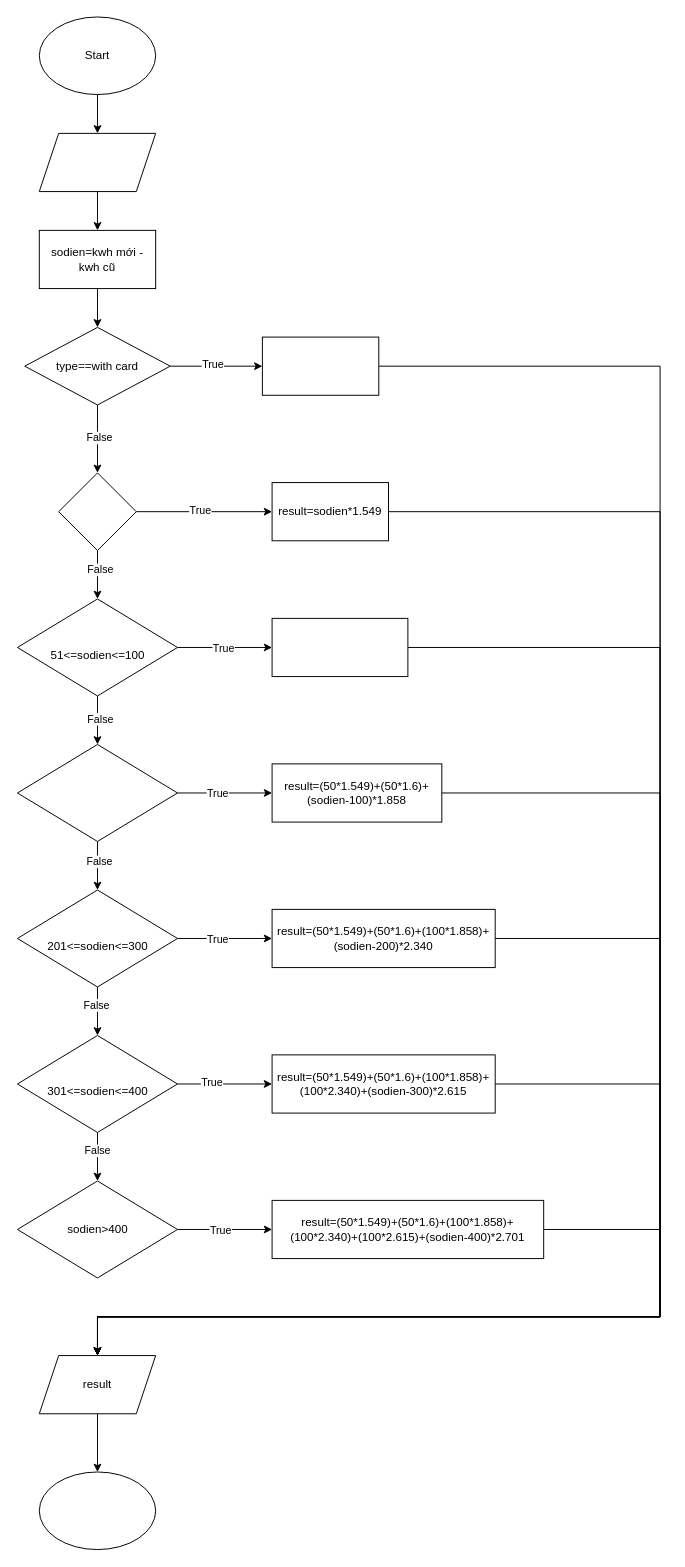
The diagram is 685 pixels wide and 1567 high, and some of its shapes have lost their labels. Each missing label, with the centre of its shape:
"101<=sodien<=200" belongs at pixel 97 792.
"End" belongs at pixel 97 1510.
"result=(50*1.549)+(sodien-50)*1.6" belongs at pixel 339 647.
"result=sodien*2.271" belongs at pixel 320 365.
"sodien<=50" belongs at pixel 97 511.
"type, kwh cũ, kwh mới" belongs at pixel 97 162.
